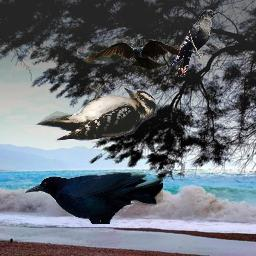Crow: (24, 172, 163, 224), (85, 39, 191, 76), (170, 9, 220, 77)
Woodpecker: (35, 85, 164, 145)
